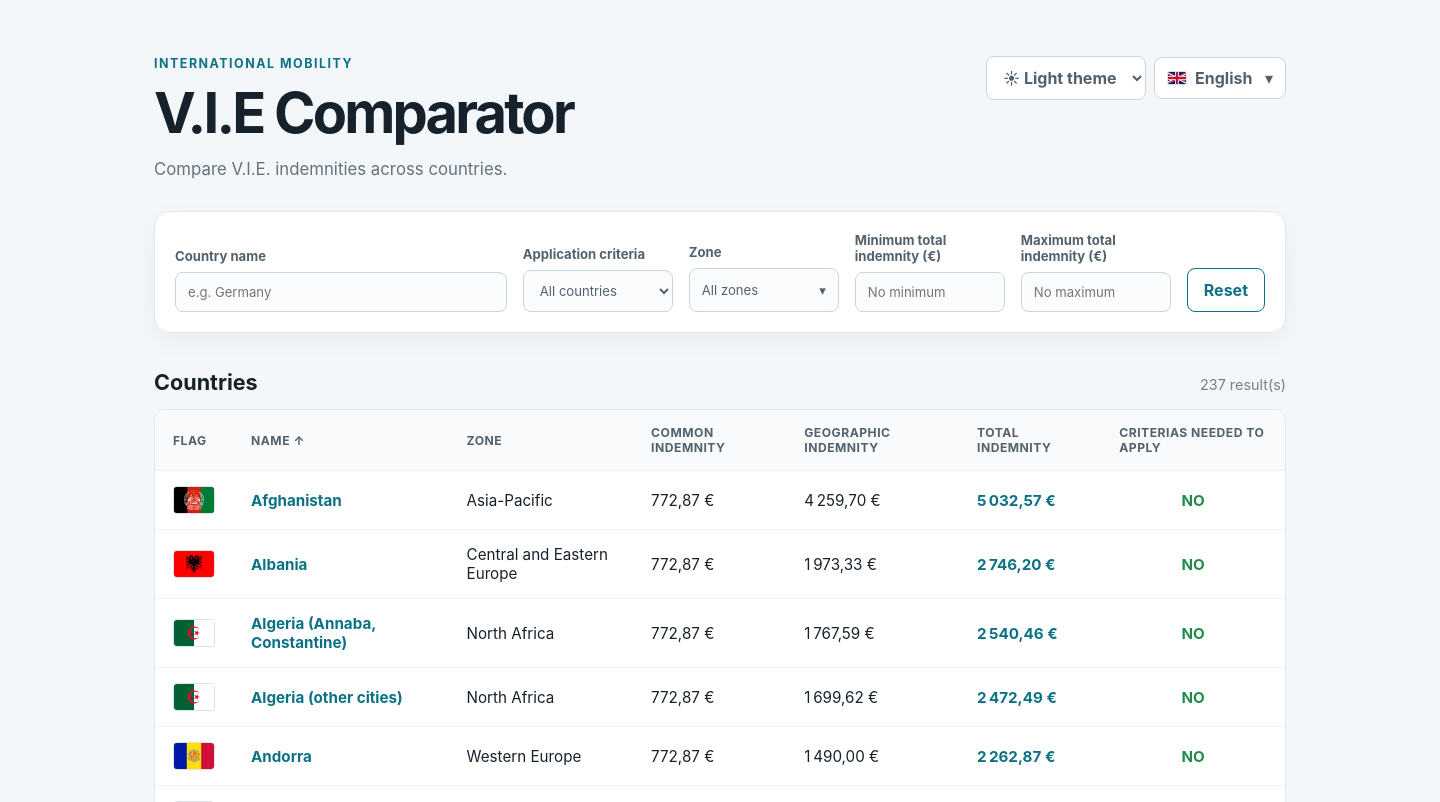
it: Integration tests: V.I.E Comparator › sorts the table when a column header is clicked
What coordinates should you click on to do the following:
click the button with test id "sort-name"
I would click on:
 (278, 440)
Its box is x1=251 y1=432 x2=305 y2=448.
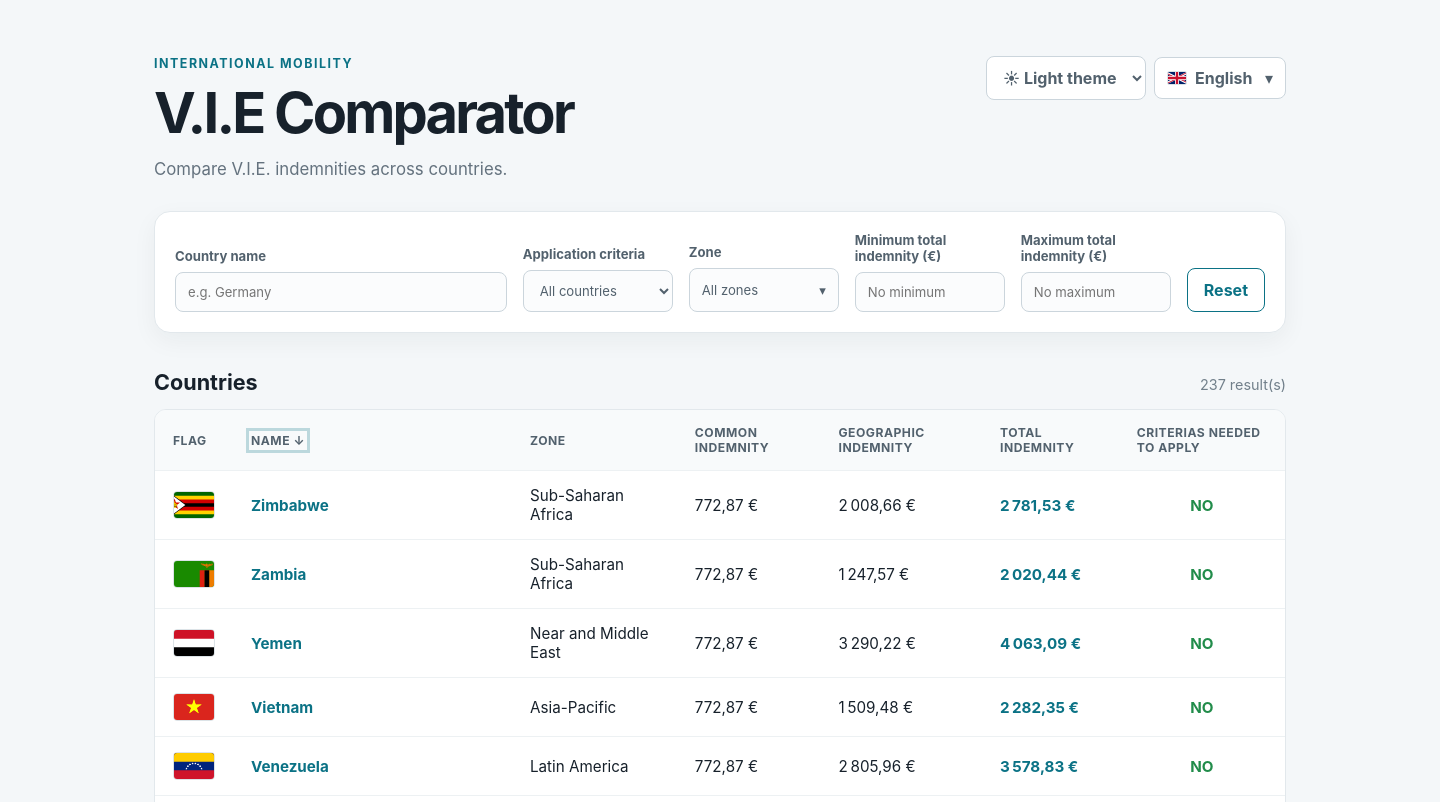
Now the button "Zimbabwe" is shown, box x1=251 y1=496 x2=329 y2=514
What coordinates should you click on to do the following:
click the button with test id "sort-name"
I would click on:
 (278, 440)
Its box is x1=251 y1=432 x2=305 y2=448.
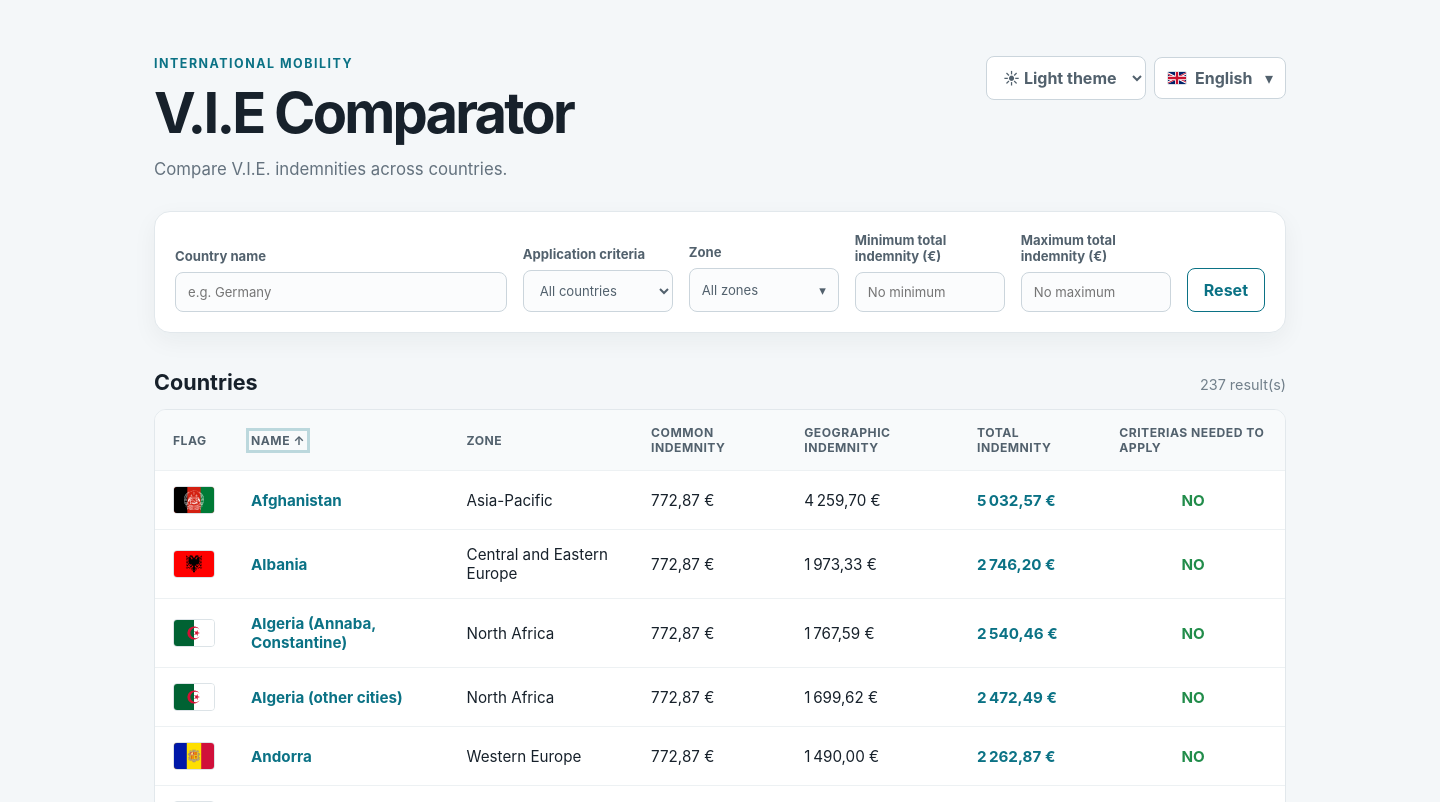
Now the button "Afghanistan" is shown, box x1=251 y1=490 x2=342 y2=510
